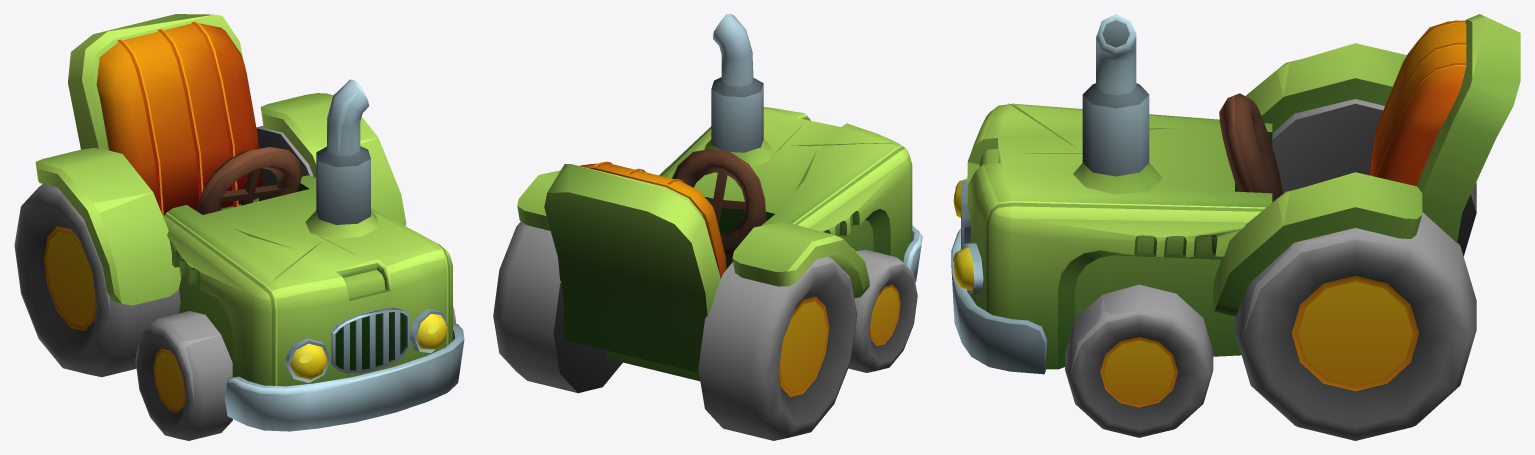
The model's file is truck_001.glb.
3 renders of one model, left to right at view 1: azimuth 30°, elevation 25°; view 2: azimuth 150°, elevation 25°; view 3: azimuth 270°, elevation 25°, orthographic. The views are drawn at different scales.
Visible parts, largest first — view 1: truck.001, truckwheel.003, truckwheel.002, trucktorus.001; view 2: truck.001, truckwheel.003, truckwheel.002, trucktorus.001; view 3: truck.001, truckwheel.003, truckwheel.006, trucktorus.001.
Boxes of the visible parts, x1=… form: truck.001: x1=35, y1=14, x2=464, y2=431; truckwheel.003: x1=14, y1=126, x2=313, y2=377; truckwheel.002: x1=135, y1=311, x2=232, y2=440; trucktorus.001: x1=196, y1=147, x2=301, y2=214; truck.001: x1=517, y1=14, x2=922, y2=381; truckwheel.003: x1=493, y1=221, x2=857, y2=440; truckwheel.002: x1=848, y1=249, x2=917, y2=372; trucktorus.001: x1=672, y1=149, x2=766, y2=259; truck.001: x1=951, y1=14, x2=1520, y2=374; truckwheel.003: x1=1234, y1=99, x2=1476, y2=440; truckwheel.006: x1=1065, y1=284, x2=1213, y2=437; trucktorus.001: x1=1219, y1=93, x2=1282, y2=202.
Size of the model in its own units: 1.7 by 1.78 by 2.42.
1 material, 1 textured.
